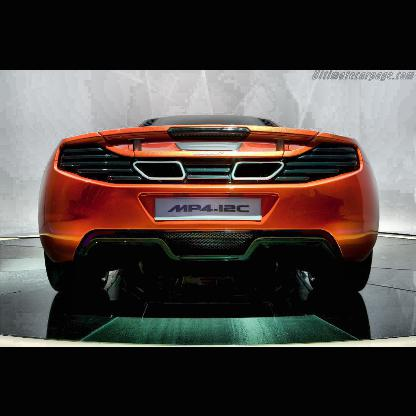McLaren MP4-12C Coupe 2012: (38, 113, 381, 297)
